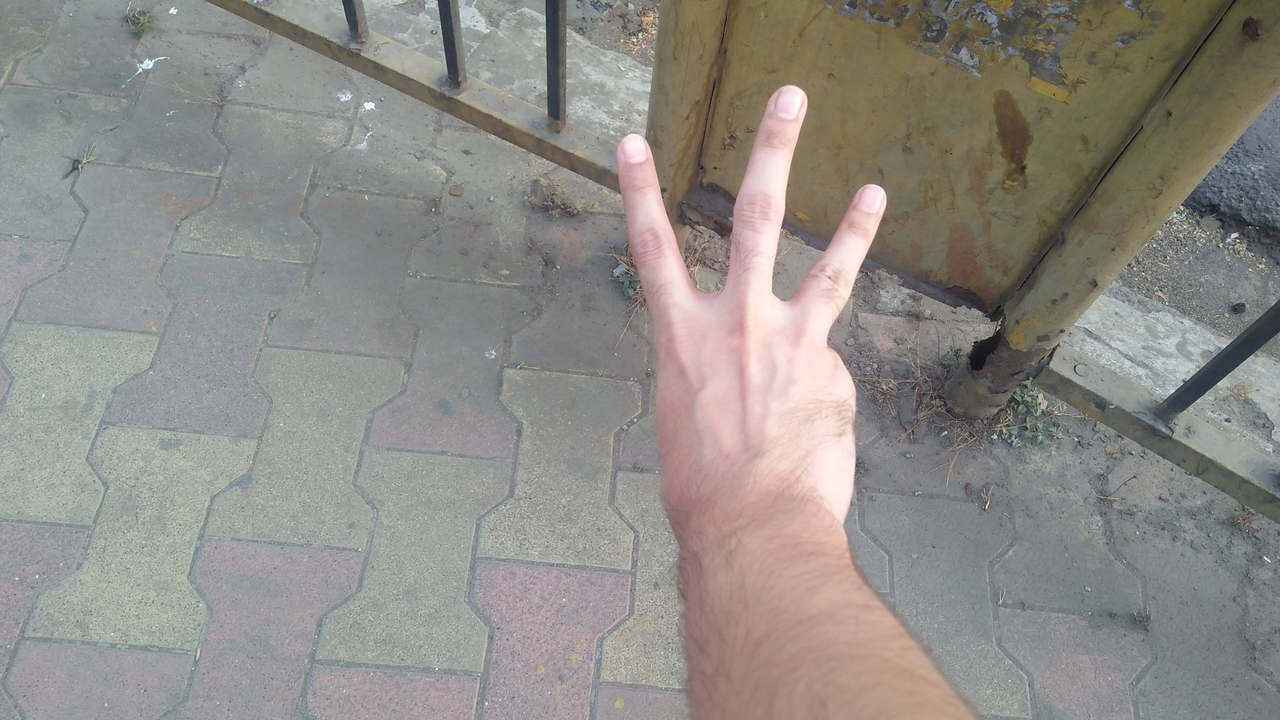fingertip: (834, 174, 900, 230), (762, 80, 820, 130), (608, 122, 658, 174)
